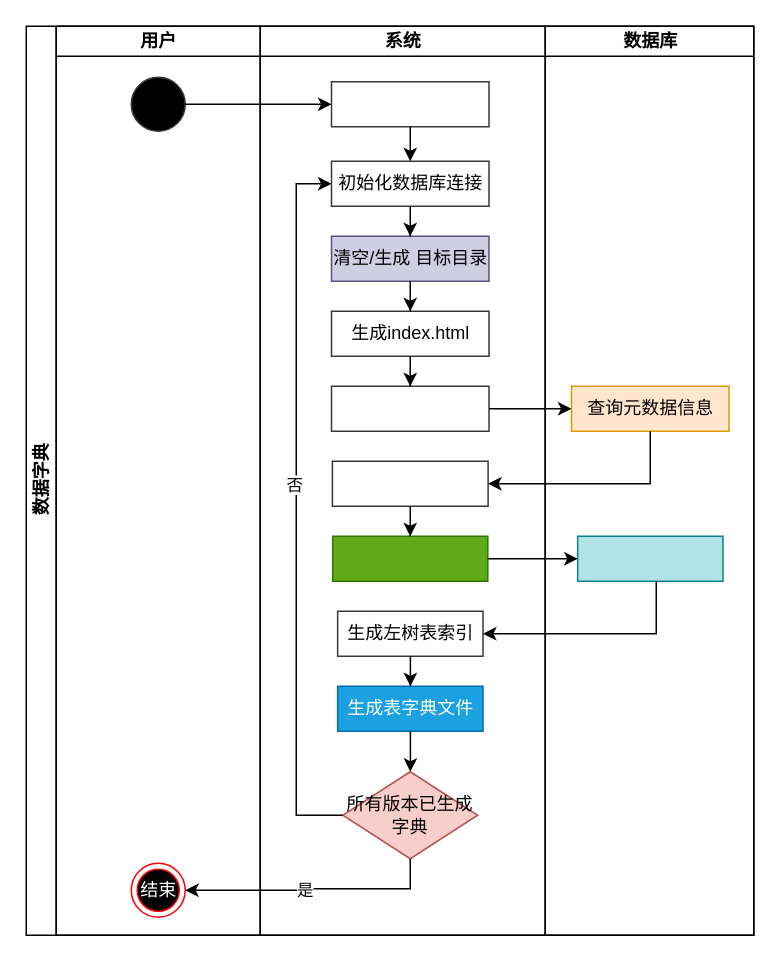
Some shapes in this 780 by 962 pixel diagram are drawn without their labels. The box of each missing label's shape, as (x1, y1, x2, y2) in pixels:
开始: (130, 76, 185, 131)
拷贝脚本文件: (330, 385, 489, 431)
查询所有表结构: (576, 535, 723, 581)
生成实体字典文件: (331, 535, 488, 581)
生成左树模块、实体索引: (331, 460, 488, 506)
读取字典配置信息: (330, 80, 489, 127)
